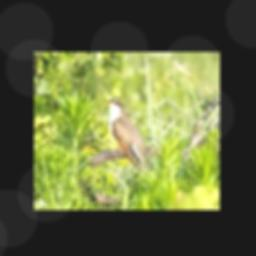Cuckoo: (105, 98, 148, 174)
